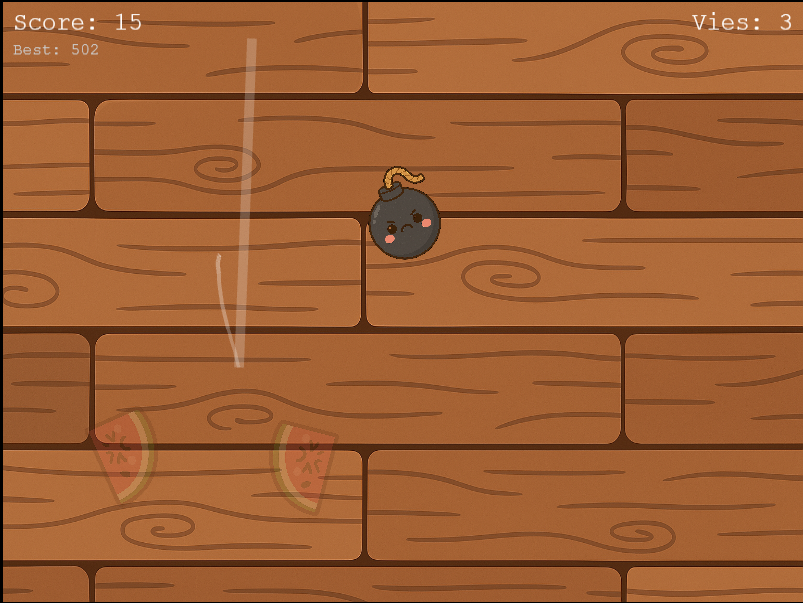bomb: (362, 163, 452, 266)
